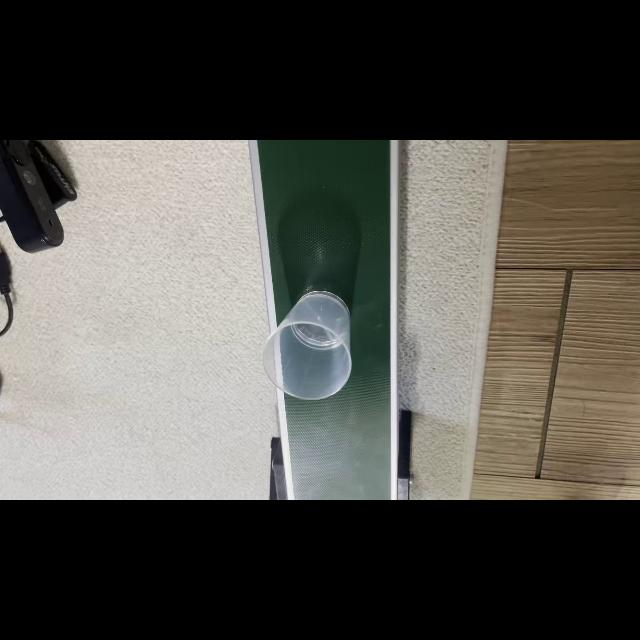clean: (263, 292, 355, 401)
